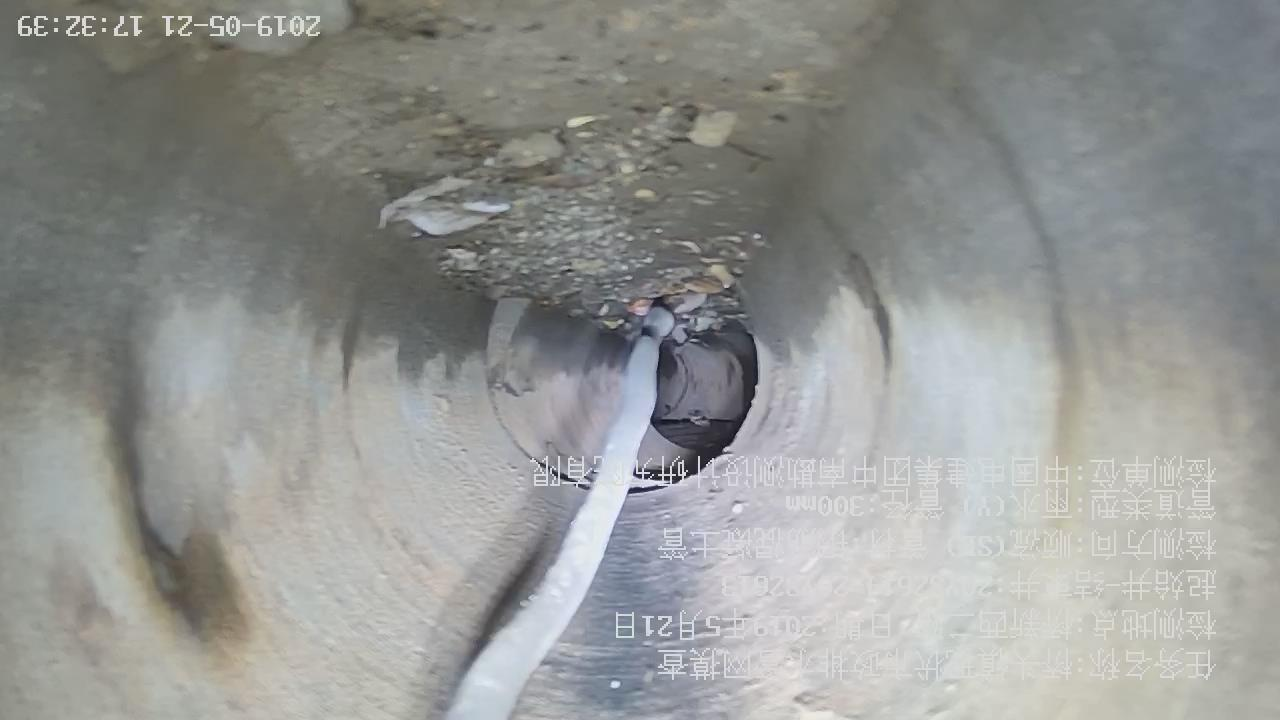CJ: (274, 1, 879, 341)
YWCR: (444, 307, 675, 720)
